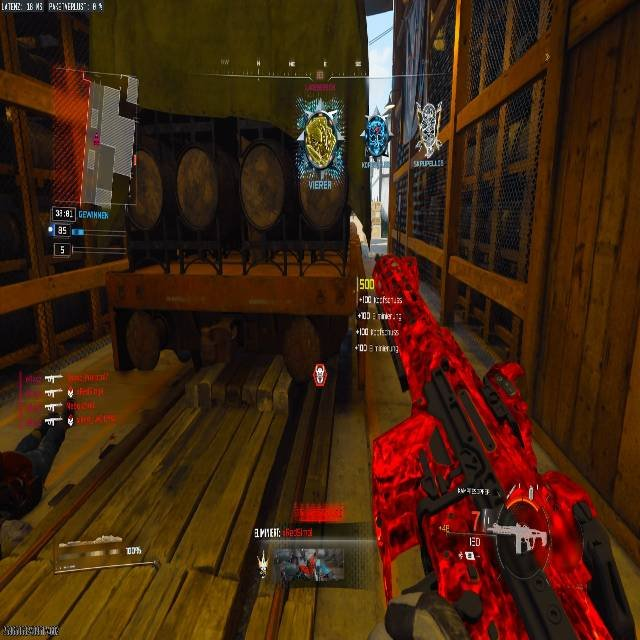head: (299, 113, 338, 169)
